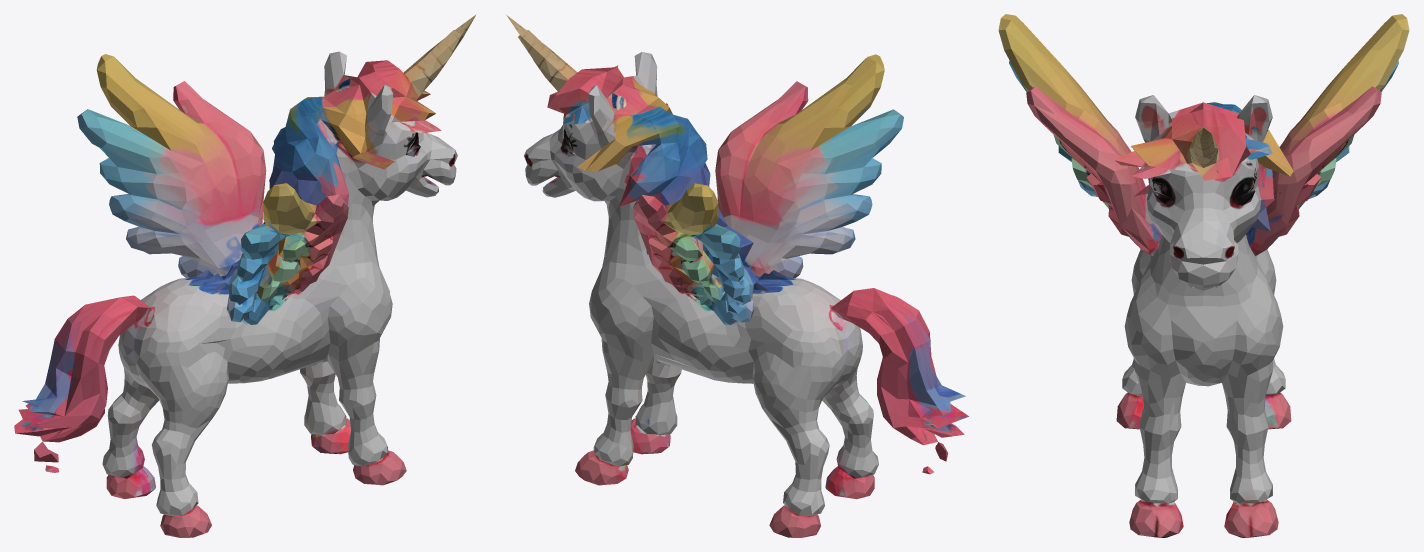
The model's file is tripo_texture_5bd8af80-4ee5-43b7-bff5-c0b1c558dbee.fbx.
3 renders of one model, left to right at view 1: azimuth 30°, elevation 25°; view 2: azimuth 150°, elevation 25°; view 3: azimuth 270°, elevation 25°, orthographic. The views are drawn at different scales.
Parts seen in each view (by area): view 1: tripo_node_dfe3a381-fa0a-4835-a55a-aab5651f69d2; view 2: tripo_node_dfe3a381-fa0a-4835-a55a-aab5651f69d2; view 3: tripo_node_dfe3a381-fa0a-4835-a55a-aab5651f69d2.
Part boxes in pixels (box(x1,y1,x2,y2)): tripo_node_dfe3a381-fa0a-4835-a55a-aab5651f69d2: box(14, 14, 476, 537); tripo_node_dfe3a381-fa0a-4835-a55a-aab5651f69d2: box(506, 14, 968, 537); tripo_node_dfe3a381-fa0a-4835-a55a-aab5651f69d2: box(998, 14, 1409, 537).
Size of the model in its own units: 98.65 by 85.93 by 68.4.
Materials: 1 (1 with a texture image).
